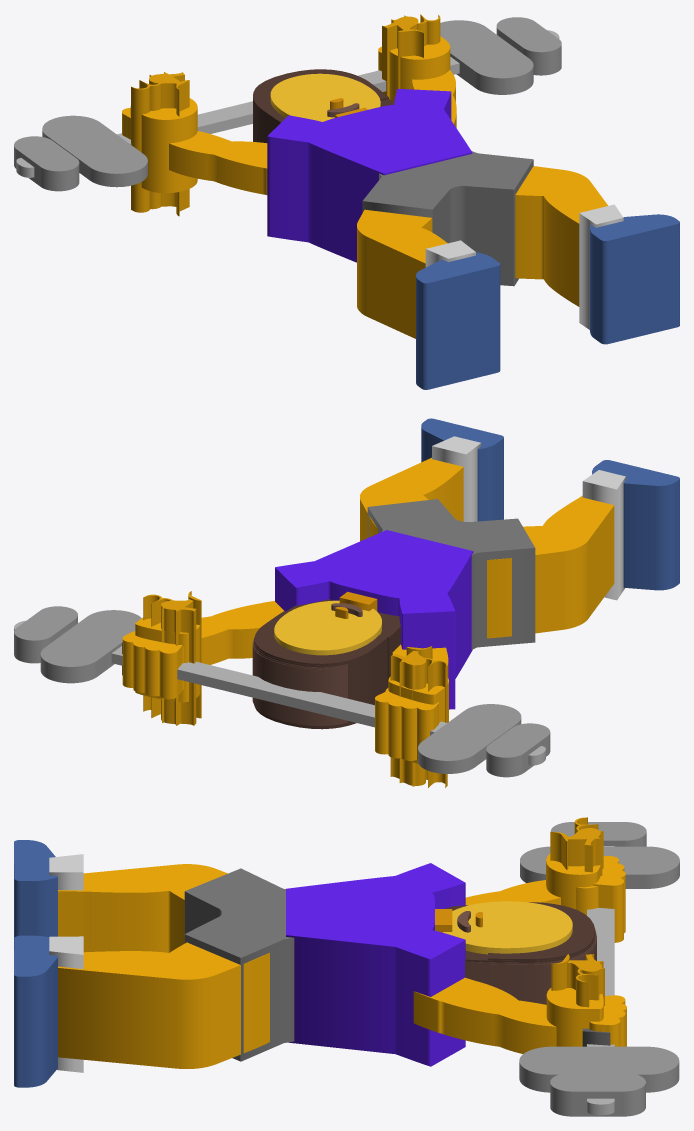
File: emoji_u1f3cb_200d_2640.glb
3 views of the same model, one above another, from view 1: azimuth 30°, elevation 25°; view 2: azimuth 150°, elevation 25°; view 3: azimuth 270°, elevation 25° (orthographic). The views are drawn at different scales.
Parts seen in each view (by area): view 1: emoji_u1f3cb_200d_2640; view 2: emoji_u1f3cb_200d_2640; view 3: emoji_u1f3cb_200d_2640.
Boxes of the visible parts, bbox=[...] form: emoji_u1f3cb_200d_2640: bbox=[14, 14, 679, 389]; emoji_u1f3cb_200d_2640: bbox=[14, 418, 679, 787]; emoji_u1f3cb_200d_2640: bbox=[14, 817, 679, 1116].
Size of the model in its own units: 0.0338 by 0.0076 by 0.0338.
